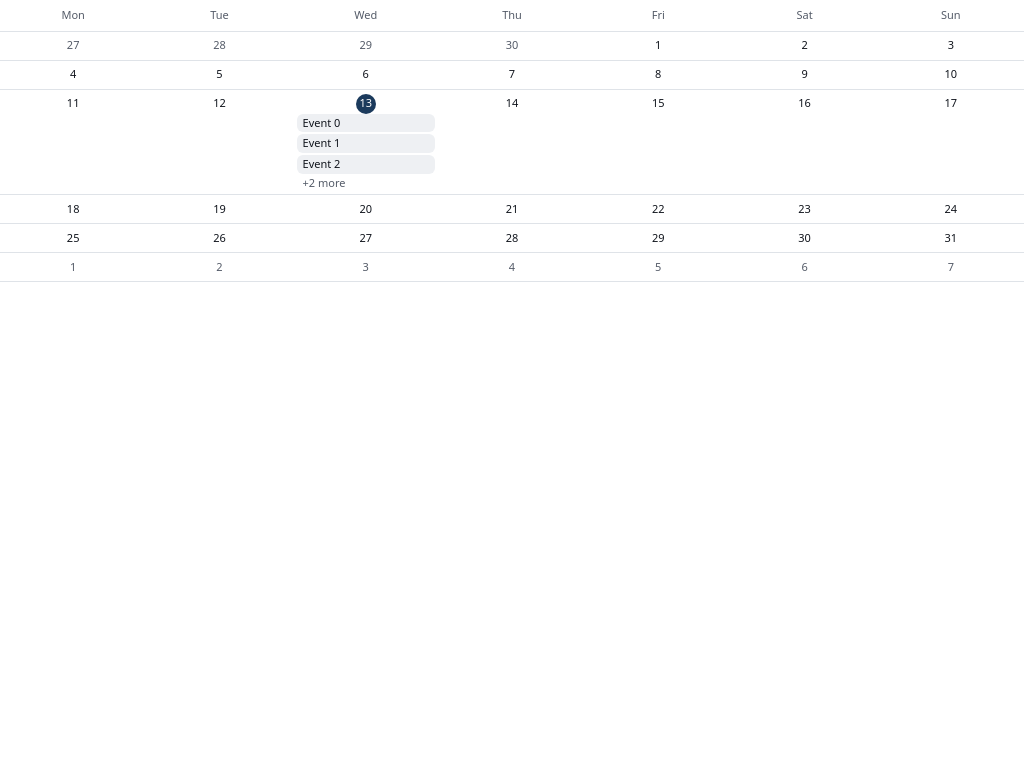
Test case: CalendarMonthGrid › clicking the +N more button opens a popover listing every event for that day
Click the button "+2 more": click(366, 183) x1=297 y1=176 x2=435 y2=190
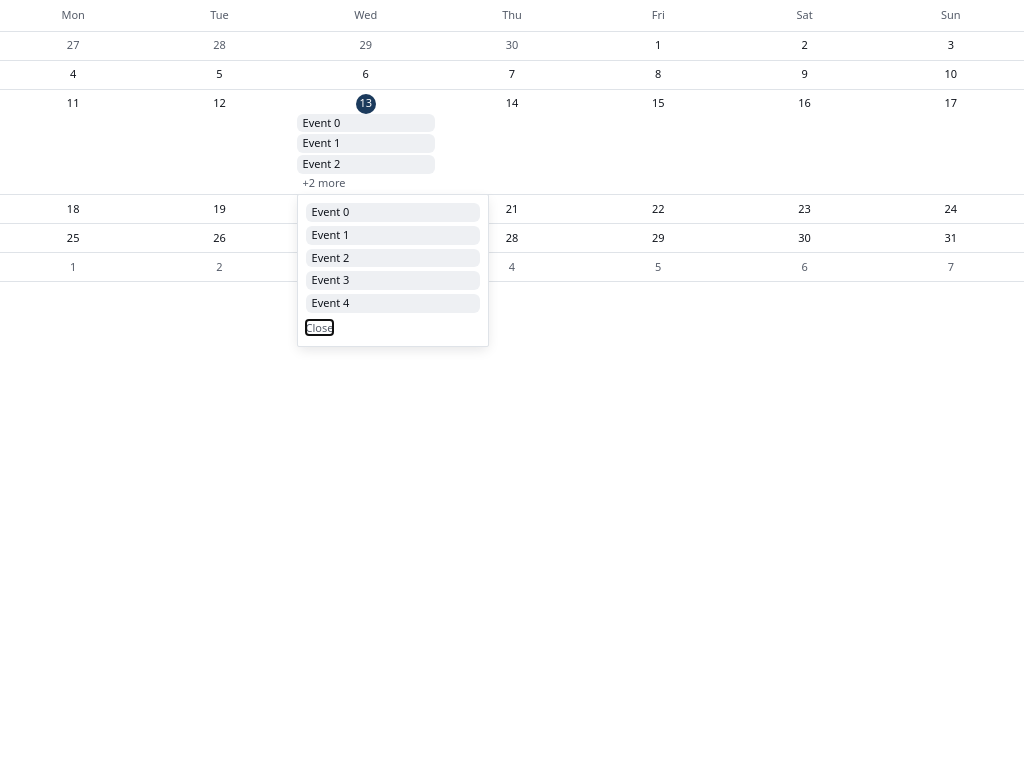
Expected: the number of buttons "Event 0" is 5, x1=306 y1=203 x2=480 y2=222; x1=306 y1=226 x2=480 y2=245; x1=306 y1=249 x2=480 y2=267; x1=306 y1=271 x2=480 y2=290; x1=306 y1=294 x2=480 y2=313
